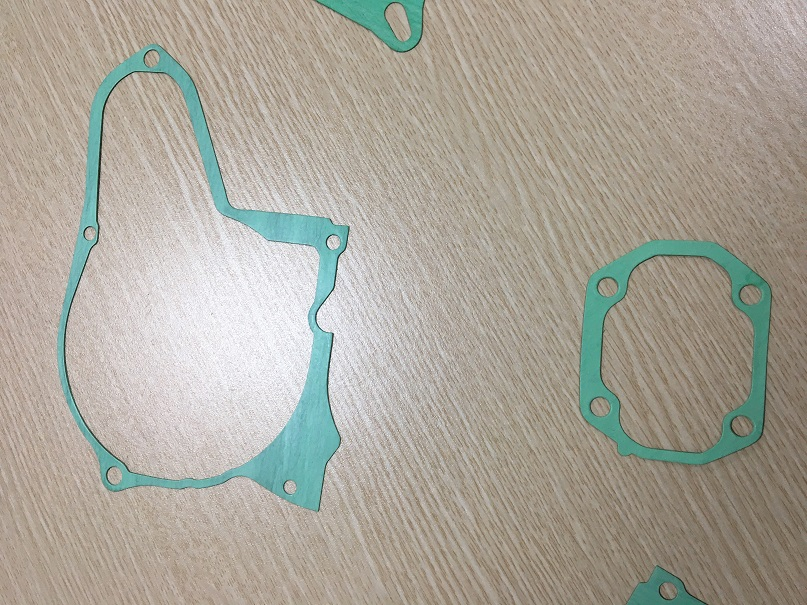type1: (49, 39, 359, 523)
type2: (568, 231, 773, 469)
